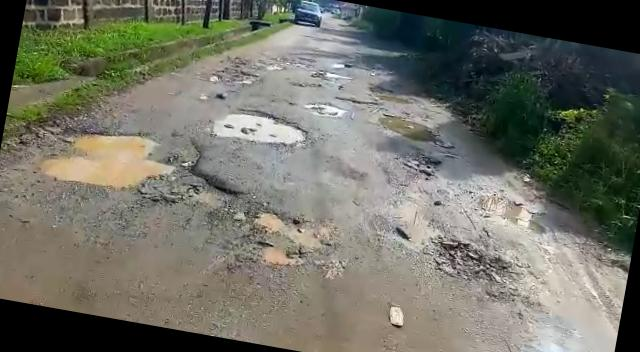pothole: (36, 116, 206, 206), (225, 204, 338, 281), (423, 232, 529, 292), (209, 102, 315, 153), (471, 191, 554, 236), (376, 112, 442, 146), (208, 62, 261, 90), (334, 94, 386, 111), (304, 98, 345, 118)
